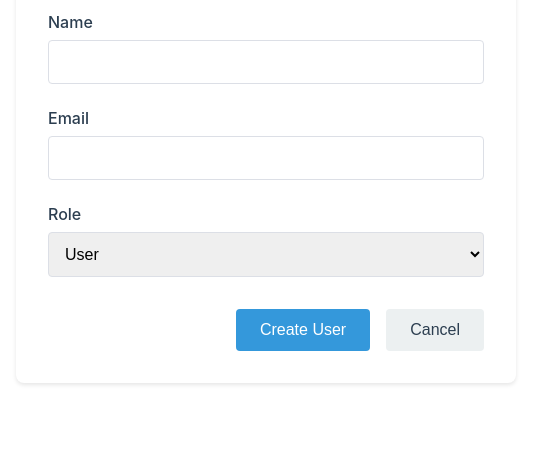
Scenario: UserForm › Form Validation › validates minimum name length
Enter single character name
Type "J" into the field with test id "name-input" at (266, 62), box [48,40,484,84]
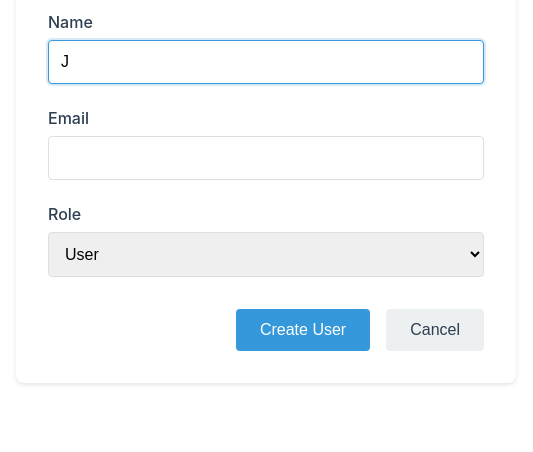
Submit form
Click the button with test id "submit-button" at (303, 330), box [236,309,370,351]
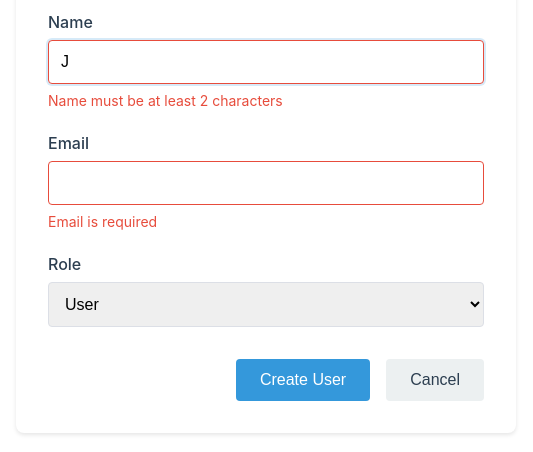
Now the text with test id "name-error" reads "Name must be at least 2 characters", box [48,92,283,109]
